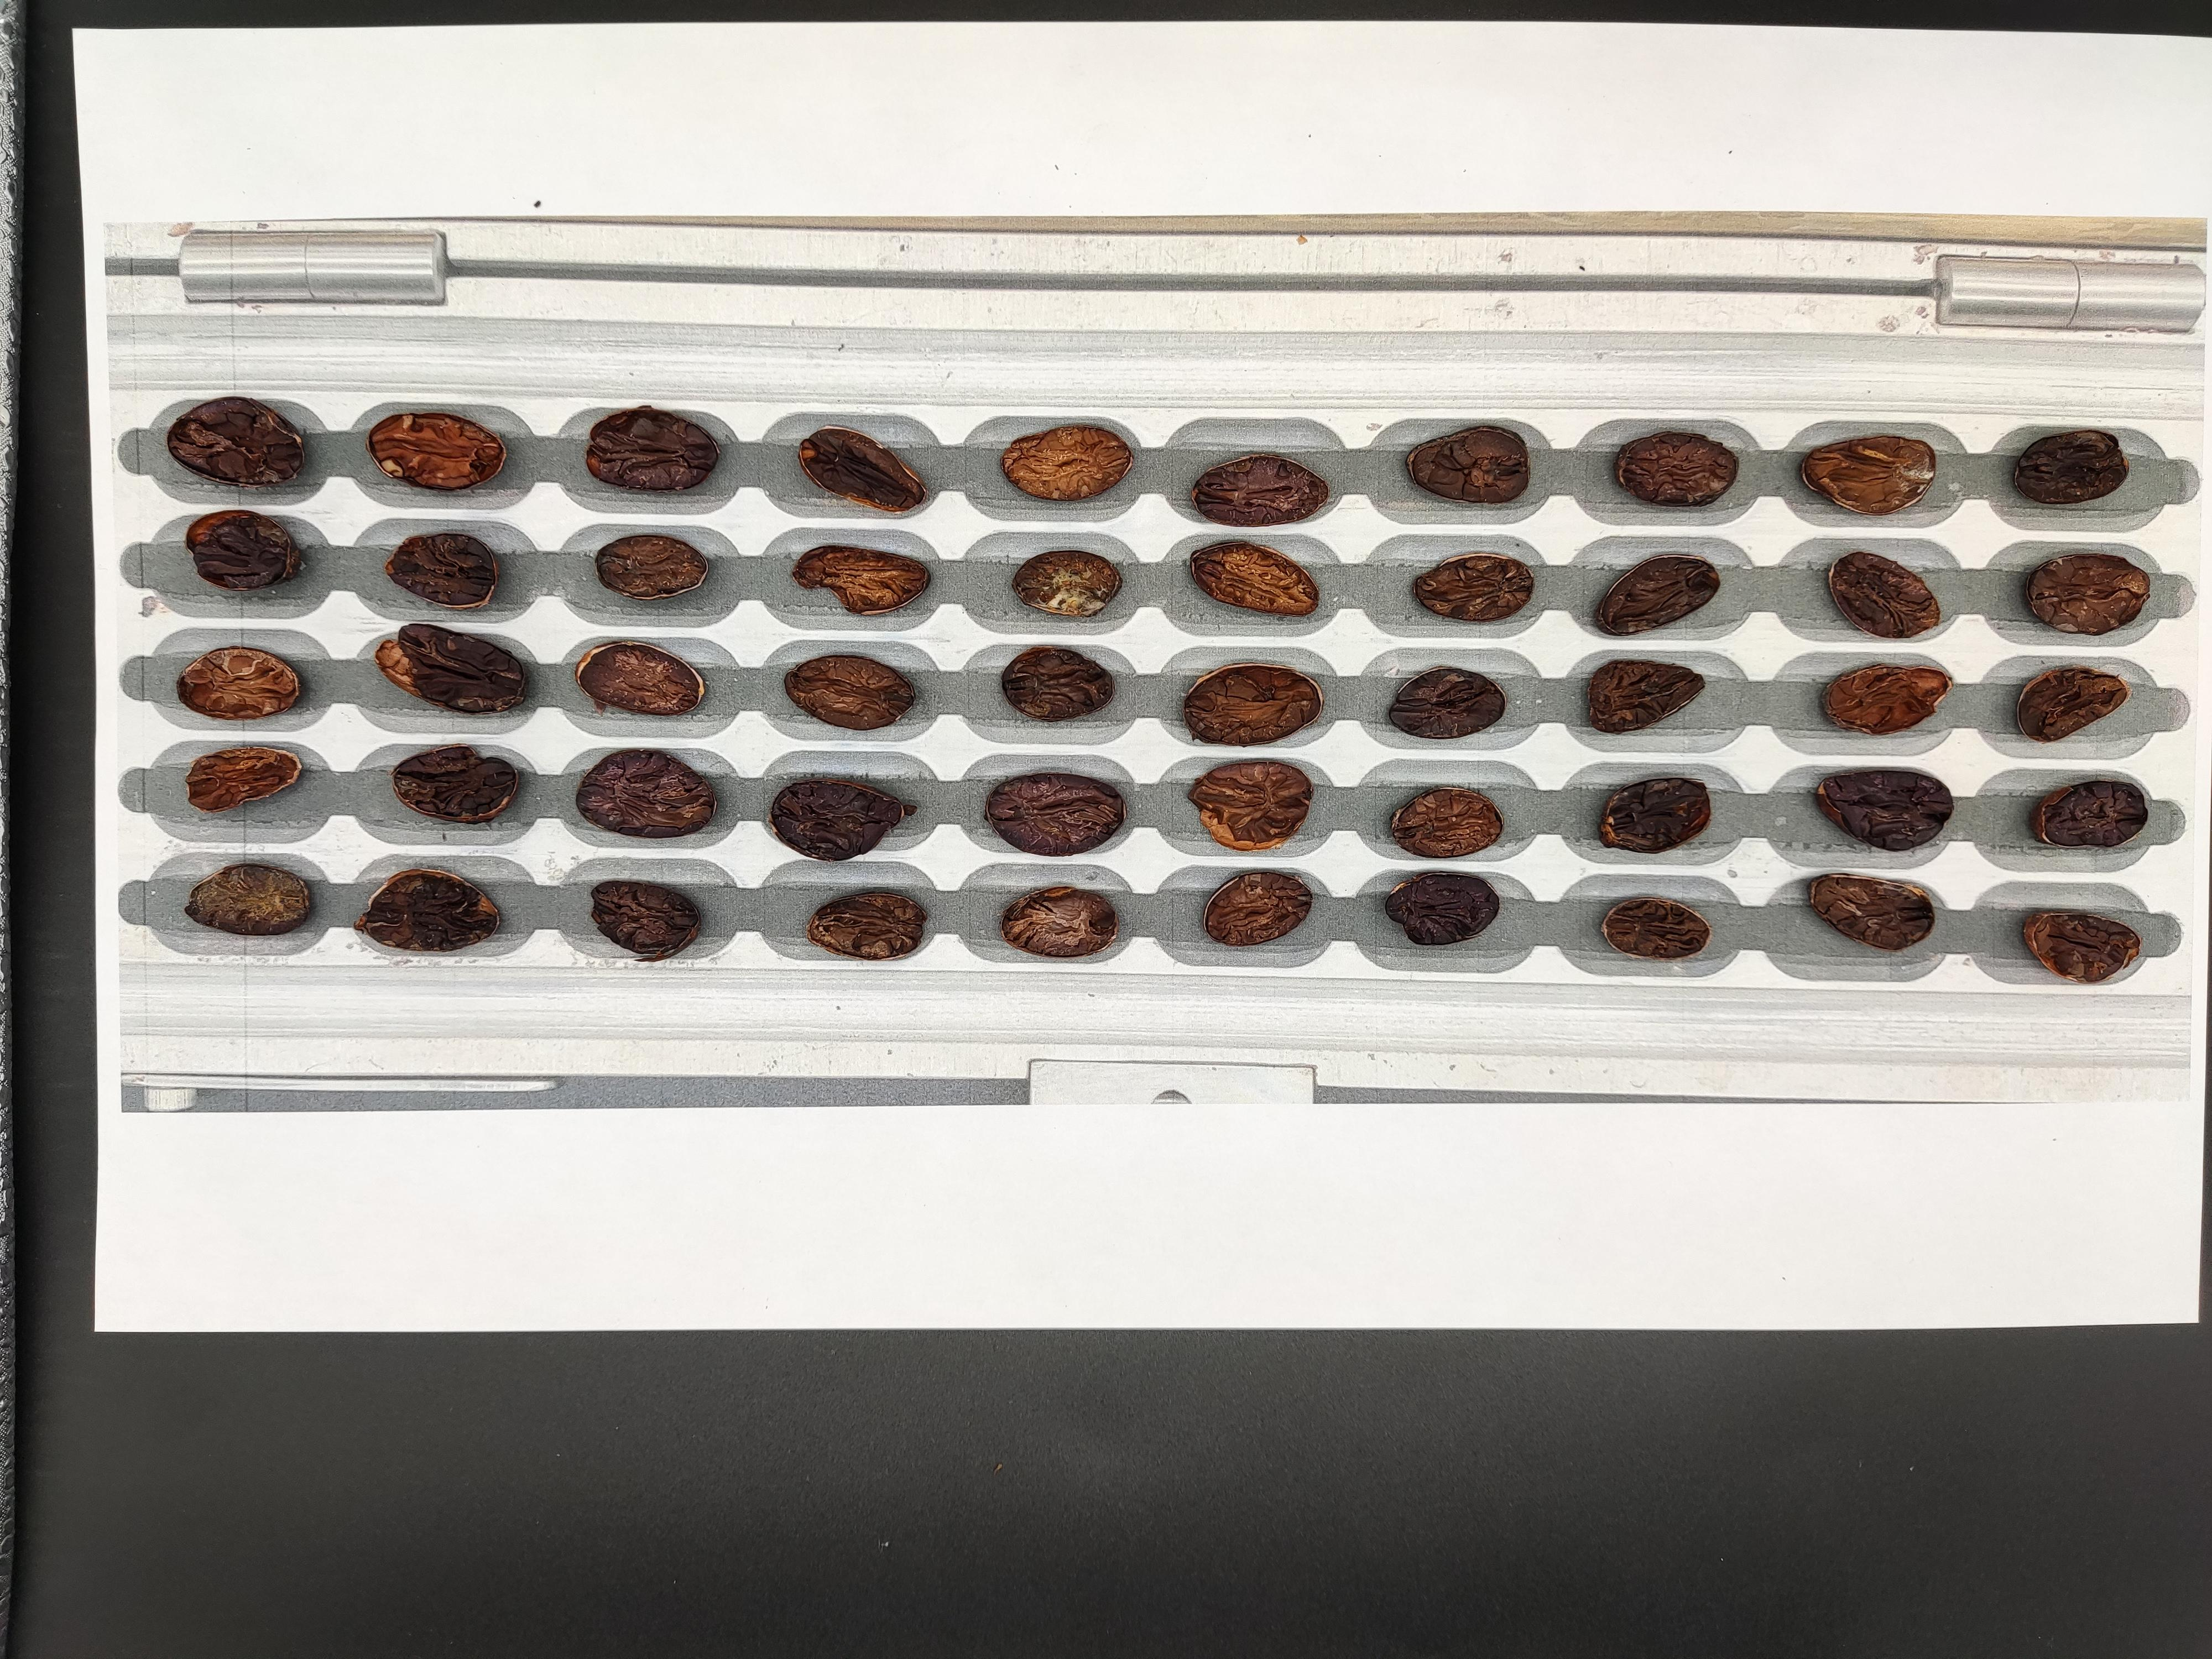Brown - G1: (185, 1018, 268, 1066), (606, 1197, 679, 1249), (719, 1091, 791, 1133), (411, 1265, 479, 1307), (91, 1190, 160, 1230)
Brown - G2: (606, 1084, 681, 1129), (928, 1147, 1003, 1192), (1029, 1272, 1101, 1319), (402, 1086, 481, 1127), (810, 1147, 880, 1194), (89, 1138, 160, 1182), (611, 1255, 678, 1300)
Brown - G3: (601, 1148, 681, 1195), (510, 1025, 585, 1072), (401, 1141, 474, 1188), (1036, 1091, 1104, 1140), (932, 1091, 1000, 1140), (507, 1262, 577, 1307), (824, 1030, 894, 1075), (925, 1255, 995, 1300), (707, 1209, 775, 1255), (1029, 1148, 1094, 1194)
Brown - G4: (300, 1080, 366, 1122)
Insect-damaged: (91, 1248, 162, 1295)
Mouldy: (916, 1032, 996, 1079), (514, 1087, 580, 1131)
Partly Purple - G1: (199, 1187, 272, 1237), (193, 1080, 260, 1126)
Partly Purple - G2: (293, 1190, 374, 1244), (298, 1014, 374, 1065)
Partly Purple - G3: (606, 1039, 685, 1082)
Partly Purple - G4: (291, 1134, 364, 1182)
Total Purple - G3: (392, 1206, 474, 1256), (500, 1202, 582, 1253), (1038, 1206, 1104, 1251), (705, 1256, 772, 1298)
Very Dark Brown - G1: (190, 1127, 279, 1182), (178, 1251, 260, 1300), (94, 1068, 160, 1117), (817, 1269, 880, 1307)
Very Dark Brown - G2: (84, 1007, 164, 1066), (921, 1202, 1003, 1255), (402, 1025, 479, 1077), (298, 1256, 368, 1307), (813, 1206, 883, 1255), (1028, 1025, 1094, 1073), (510, 1138, 580, 1183)
Very Dark Brown - G3: (812, 1089, 888, 1140), (712, 1025, 787, 1075), (707, 1148, 777, 1192)
